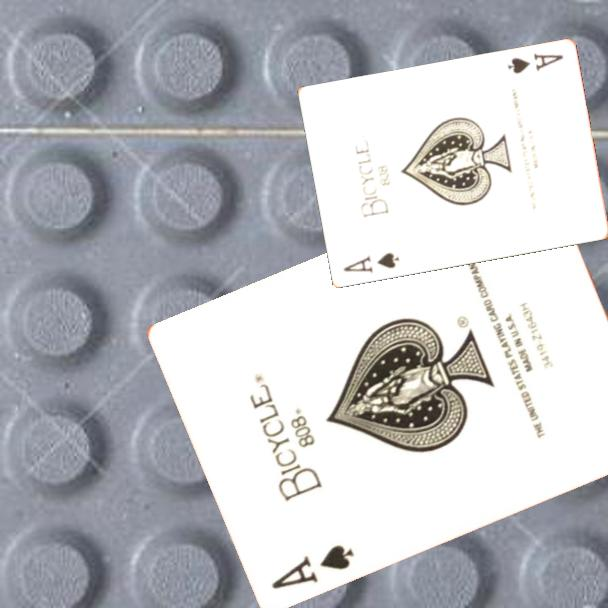s01: (267, 541, 357, 593), (339, 249, 402, 276), (504, 50, 566, 77)
